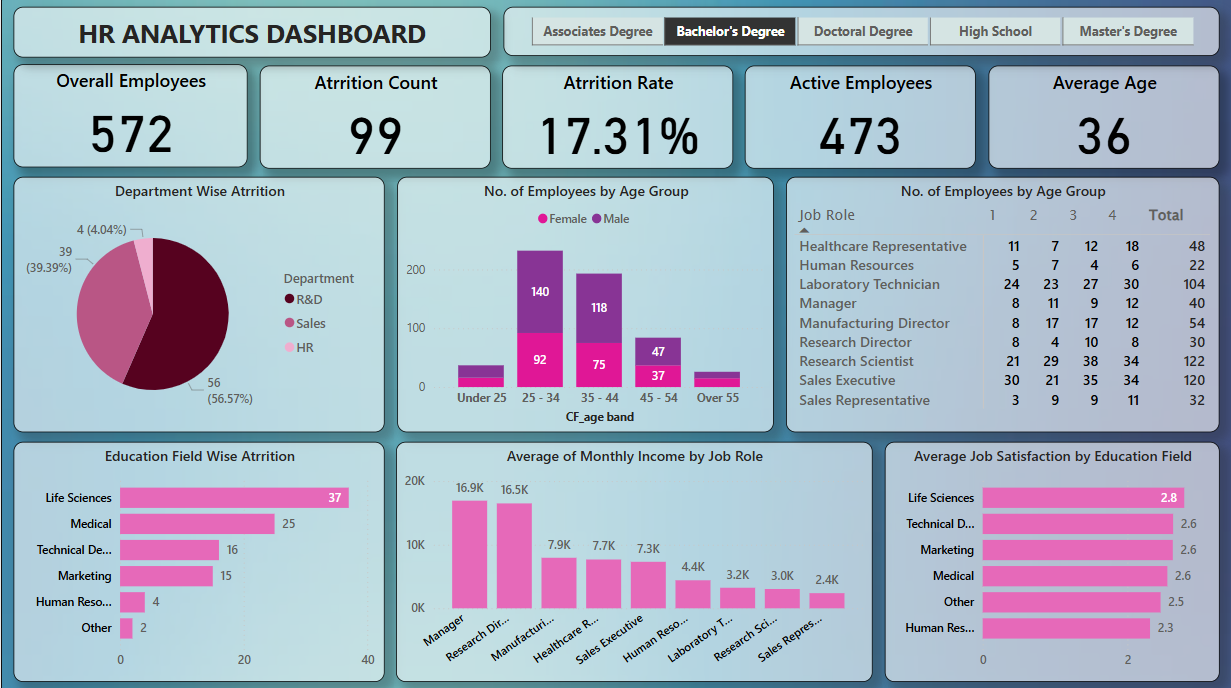

The dashboard page shown, as its layout file describes it:
{"tool":"powerbi","page":{"name":"Page 1","canvas":[1280,720],"ordinal":0},"visuals":[{"type":"card","title":"Overall Employees","fields":{"Values":["Sum(HR data.Employee Count)"]},"box":[12.9,69.3,242.9,107.1],"z":0},{"type":"card","title":"Atrrition Count","fields":{"Values":["Sum(HR data.Attrition Count)"]},"box":[268.2,70.8,240,107.1],"z":1000},{"type":"card","title":"Atrrition Rate","fields":{"Values":["HR data.Atrrition Rate"]},"box":[520.7,70.8,240,107.1],"z":2000},{"type":"card","title":"Active Employees","fields":{"Values":["HR data.Active Employees"]},"box":[773.2,70.8,240,107.1],"z":3000},{"type":"card","title":"Average Age","fields":{"Values":["Avg(HR data.Age)"]},"box":[1025.7,70.8,240,107.1],"z":4000},{"type":"pieChart","title":"Department Wise Atrrition","fields":{"Category":["HR data.Department"],"Y":["Sum(HR data.Attrition Count)"]},"box":[12.9,186.1,385.7,265.7],"z":5000},{"type":"columnChart","title":"No. of Employees by Age Group","fields":{"Category":["HR data.CF_age band"],"Series":["HR data.Gender"],"Y":["Sum(HR data.Employee Count)"]},"box":[411.4,186.1,391.4,265.7],"z":6000},{"type":"pivotTable","title":"No. of Employees by Age Group","fields":{"Rows":["HR data.Job Role"],"Columns":["HR data.Job Satisfaction"],"Values":["Sum(HR data.Employee Count)"]},"box":[815.7,186.1,450,265.7],"z":7000},{"type":"barChart","title":"Education Field Wise Atrrition","fields":{"Category":["HR data.Education Field"],"Y":["Sum(HR data.Attrition Count)"]},"box":[13,461,385.7,249.4],"z":8000},{"type":"slicer","fields":{"Values":["HR data.Education"]},"box":[521.4,8.6,744.3,51.4],"z":9000},{"type":"textbox","box":[13,9.1,496.1,53],"z":10000},{"type":"clusteredColumnChart","fields":{"Y":["Avg(HR data.Monthly Income)"],"Category":["HR data.Job Role"]},"box":[410.4,461,494.8,249.4],"z":11000},{"type":"barChart","title":"Average Job Satisfaction by Education Field","fields":{"Category":["HR data.Education Field"],"Y":["Avg(HR data.Job Satisfaction)"]},"box":[918.2,461,348.1,249.4],"z":12000}]}

Visuals, with their boxes in screenshot pixels (x1, y1, x2, y2), scaled from the page's 1280x720 canvas onto the 1231x688 screenshot:
"Overall Employees" card: rect(12, 66, 246, 169)
"Atrrition Count" card: rect(258, 68, 489, 170)
"Atrrition Rate" card: rect(501, 68, 732, 170)
"Active Employees" card: rect(744, 68, 974, 170)
"Average Age" card: rect(986, 68, 1217, 170)
"Department Wise Atrrition" pieChart: rect(12, 178, 383, 432)
"No. of Employees by Age Group" columnChart: rect(396, 178, 772, 432)
"No. of Employees by Age Group" pivotTable: rect(784, 178, 1217, 432)
"Education Field Wise Atrrition" barChart: rect(13, 441, 383, 679)
slicer - HR data.Education: rect(501, 8, 1217, 57)
textbox: rect(13, 9, 490, 59)
clusteredColumnChart - Avg(HR data.Monthly Income) x HR data.Job Role: rect(395, 441, 871, 679)
"Average Job Satisfaction by Education Field" barChart: rect(883, 441, 1218, 679)
